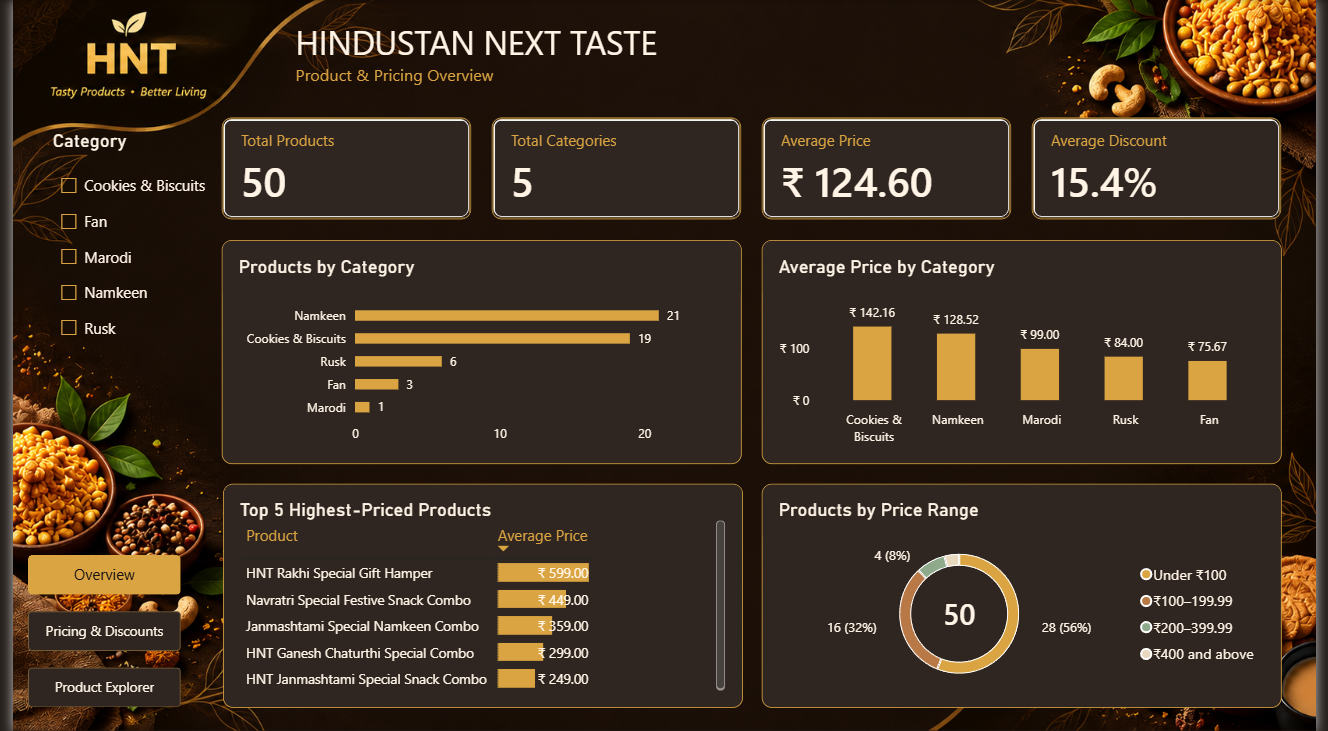

Layout of this report page (visuals, bound fields, positions):
{"tool":"powerbi","page":{"name":"Overview","canvas":[1280,720],"ordinal":0},"visuals":[{"type":"textbox","box":[277.8,19.4,727.8,75],"z":0},{"type":"cardVisual","fields":{"Data":["Products.Total Products"]},"box":[205,115,245,100],"z":1000},{"type":"cardVisual","fields":{"Data":["Products.Total Categories"]},"box":[470,115,245,100],"z":2000},{"type":"cardVisual","fields":{"Data":["Products.Average Price"]},"box":[735,115,245,100],"z":3000},{"type":"cardVisual","fields":{"Data":["Products.Average Discount"]},"box":[1000,115,245,100],"z":4000},{"type":"clusteredBarChart","title":"Products by Category","fields":{"Category":["Shop_Products.Category"],"Y":["Products.Total Products"]},"box":[205,235,510,220],"z":5000},{"type":"clusteredColumnChart","title":"Average Price by Category","fields":{"Category":["Shop_Products.Category"],"Y":["Products.Average Price"]},"box":[735.5,235,510,220],"z":6000},{"type":"tableEx","title":"Top 5 Highest-Priced Products","fields":{"Values":["Shop_Products.Product_Name","Products.Average Price"]},"box":[205.8,475,510,220],"z":7000},{"type":"donutChart","title":"Products by Price Range","fields":{"Category":["Shop_Products.Price Range"],"Y":["Products.Total Products"]},"box":[735.5,474.8,510,220],"z":8000},{"type":"slicer","title":"Category","fields":{"Values":["Shop_Products.Category"]},"box":[38.9,127.8,149.6,216.8],"z":9000},{"type":"pageNavigator","box":[15.1,544.8,150,150],"z":10000}]}

Visuals, with their boxes in screenshot pixels (x1, y1, x2, y2), scaled from the page's 1280x720 canvas onto the 1328x731 screenshot:
textbox: {"x1": 288, "y1": 20, "x2": 1043, "y2": 96}
cardVisual - Products.Total Products: {"x1": 213, "y1": 117, "x2": 467, "y2": 218}
cardVisual - Products.Total Categories: {"x1": 488, "y1": 117, "x2": 742, "y2": 218}
cardVisual - Products.Average Price: {"x1": 763, "y1": 117, "x2": 1017, "y2": 218}
cardVisual - Products.Average Discount: {"x1": 1038, "y1": 117, "x2": 1292, "y2": 218}
"Products by Category" clusteredBarChart: {"x1": 213, "y1": 239, "x2": 742, "y2": 462}
"Average Price by Category" clusteredColumnChart: {"x1": 763, "y1": 239, "x2": 1292, "y2": 462}
"Top 5 Highest-Priced Products" tableEx: {"x1": 214, "y1": 482, "x2": 743, "y2": 706}
"Products by Price Range" donutChart: {"x1": 763, "y1": 482, "x2": 1292, "y2": 705}
"Category" slicer: {"x1": 40, "y1": 130, "x2": 196, "y2": 350}
pageNavigator: {"x1": 16, "y1": 553, "x2": 171, "y2": 705}
